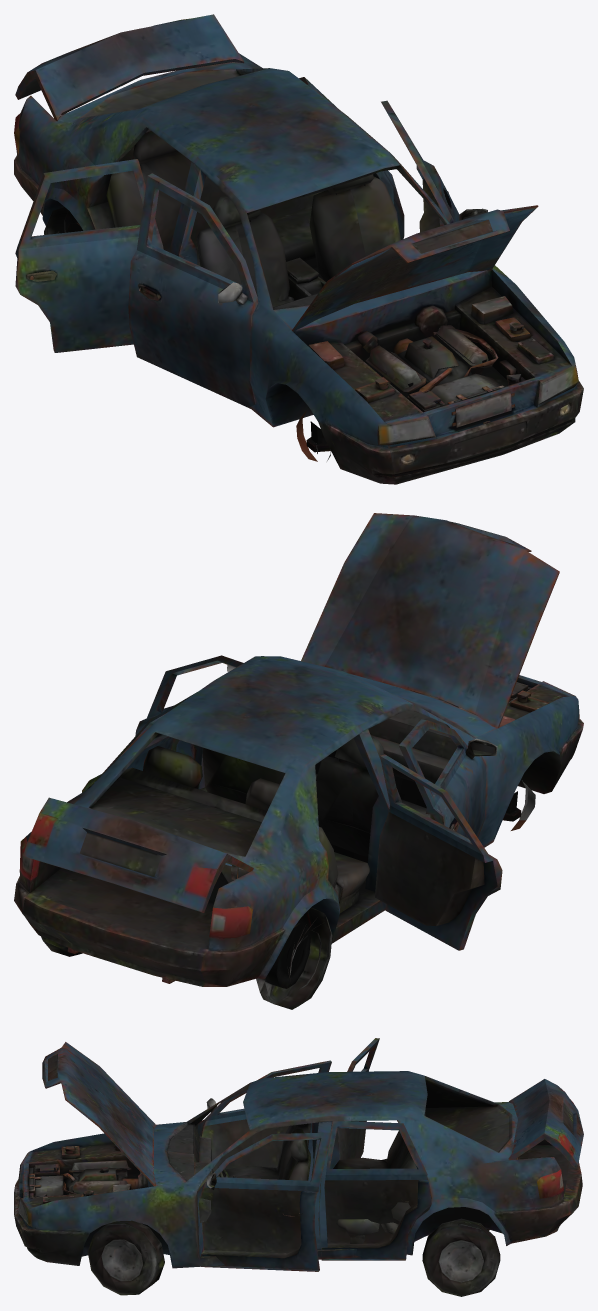
The model's file is sedan_a.glb.
3 views of the same model, one above another, from view 1: azimuth 30°, elevation 25°; view 2: azimuth 150°, elevation 25°; view 3: azimuth 270°, elevation 25° (orthographic). The views are drawn at different scales.
Parts seen in each view (by area): view 1: Object_4; view 2: Object_4; view 3: Object_4.
Part boxes in pixels (x1=…): Object_4: x1=14, y1=14, x2=583, y2=484; Object_4: x1=14, y1=513, x2=583, y2=1009; Object_4: x1=14, y1=1038, x2=583, y2=1296.
Size of the model in its own units: 12.73 by 7.74 by 21.3.
Materials: 1 (1 with a texture image).
